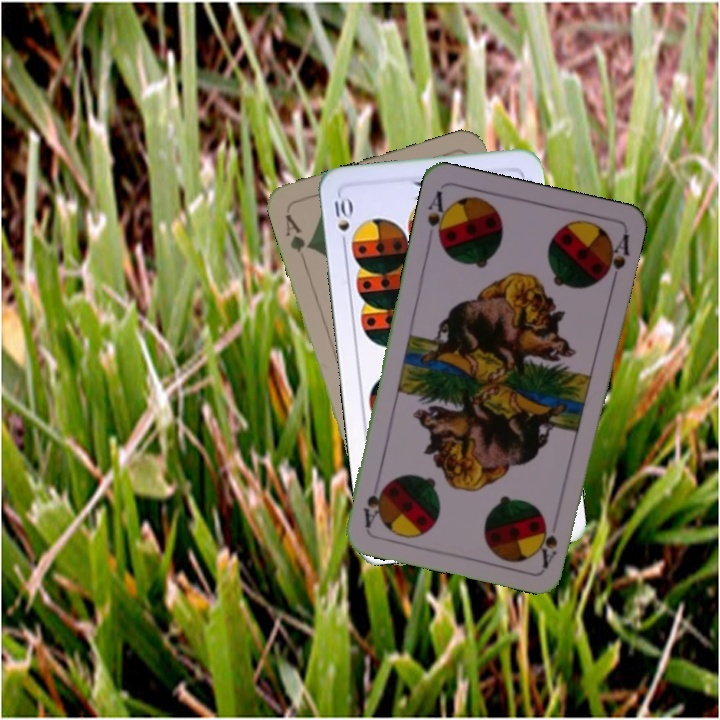GA: (280, 210, 314, 266)
S10: (330, 191, 354, 250)
SA: (423, 186, 452, 247), (537, 519, 560, 569)
